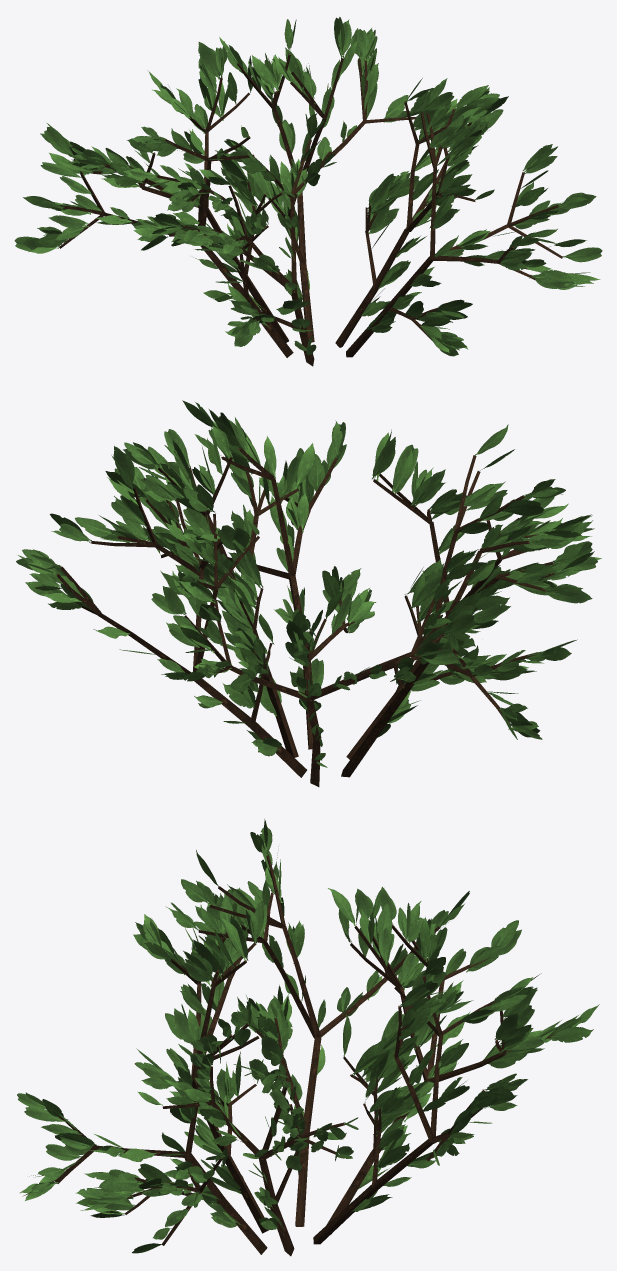
Rendered from sumac_scrub_v01_LOD1.fbx.
3 renders of one model, top to bottom at view 1: azimuth 30°, elevation 25°; view 2: azimuth 150°, elevation 25°; view 3: azimuth 270°, elevation 25°, orthographic. The views are drawn at different scales.
Parts seen in each view (by area): view 1: sumac_scrub_v01_LOD1; view 2: sumac_scrub_v01_LOD1; view 3: sumac_scrub_v01_LOD1.
Part boxes in pixels (bbox=[...]): sumac_scrub_v01_LOD1: bbox=[14, 17, 602, 366]; sumac_scrub_v01_LOD1: bbox=[16, 400, 601, 786]; sumac_scrub_v01_LOD1: bbox=[17, 819, 599, 1256].
Bounding box in the file's own units: 227 × 132 × 215.
2 materials, 2 textured.
